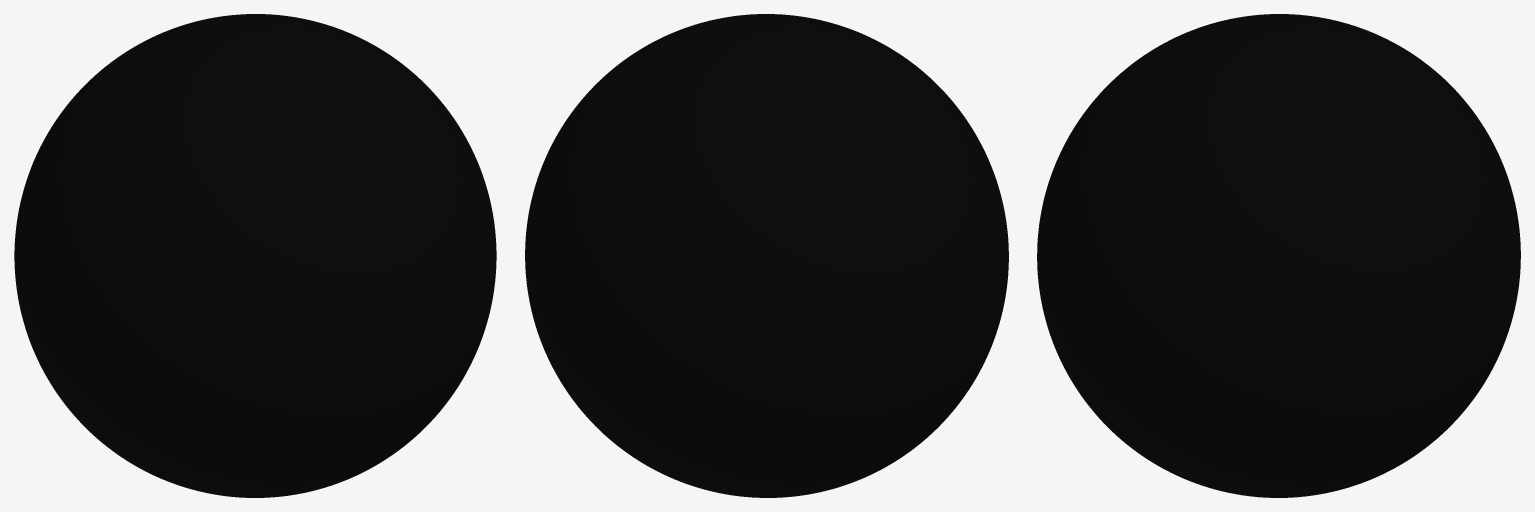
The picture shows the model from 3 angles, left to right: view 1: azimuth 30°, elevation 25°; view 2: azimuth 150°, elevation 25°; view 3: azimuth 270°, elevation 25°; orthographic projection.
Parts seen in each view (by area): view 1: Nubes.001_09.Nubes-atmosfera - Sun_0; view 2: Nubes.001_09.Nubes-atmosfera - Sun_0; view 3: Nubes.001_09.Nubes-atmosfera - Sun_0.
Part boxes in pixels (x1=…): Nubes.001_09.Nubes-atmosfera - Sun_0: x1=14, y1=14, x2=496, y2=497; Nubes.001_09.Nubes-atmosfera - Sun_0: x1=525, y1=14, x2=1008, y2=497; Nubes.001_09.Nubes-atmosfera - Sun_0: x1=1037, y1=14, x2=1520, y2=497.
Bounding box in the file's own units: 19.26 × 19.3 × 19.26.
Materials: 2 (2 with a texture image).
